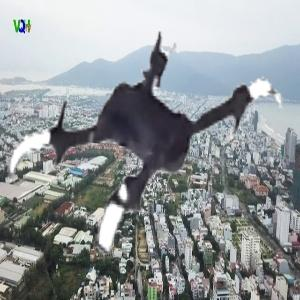drone: (1, 11, 290, 300)
